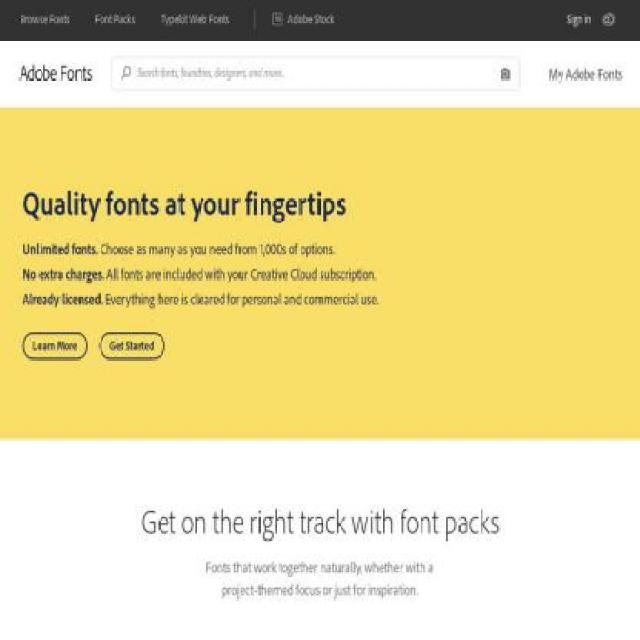button: (152, 0, 239, 40), (264, 0, 344, 40), (10, 0, 79, 40), (538, 59, 632, 87), (86, 0, 146, 40), (23, 332, 88, 360), (99, 332, 164, 360), (560, 0, 597, 38), (597, 0, 620, 38)
field: (111, 56, 520, 90)
